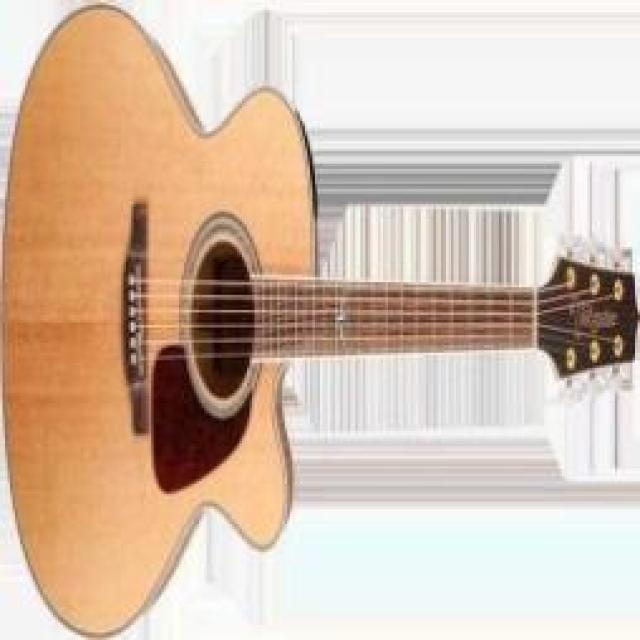acousticguitar: (0, 5, 637, 632)
